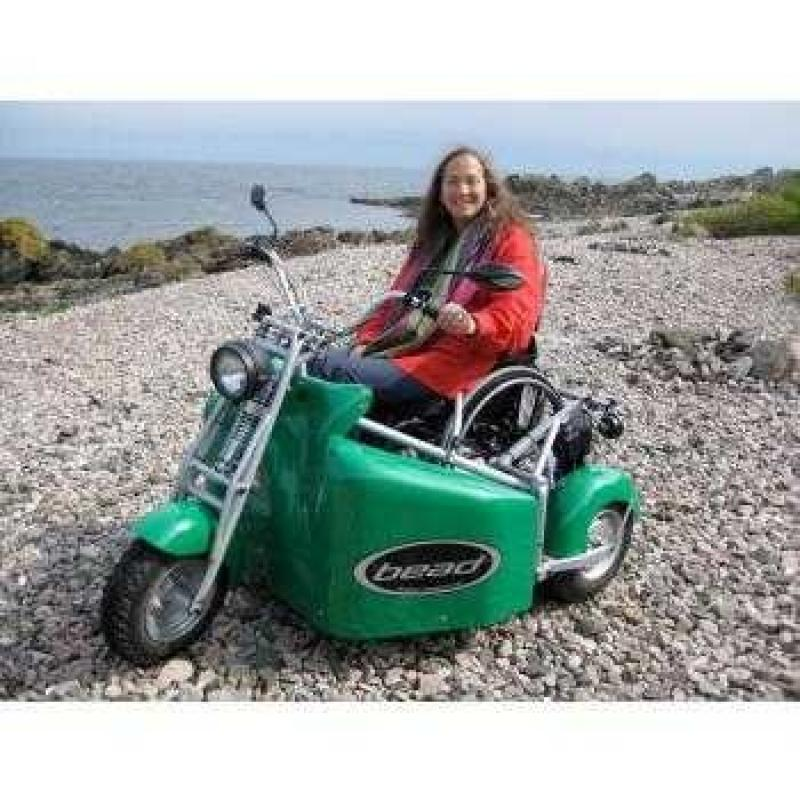bike: (95, 233, 669, 648)
